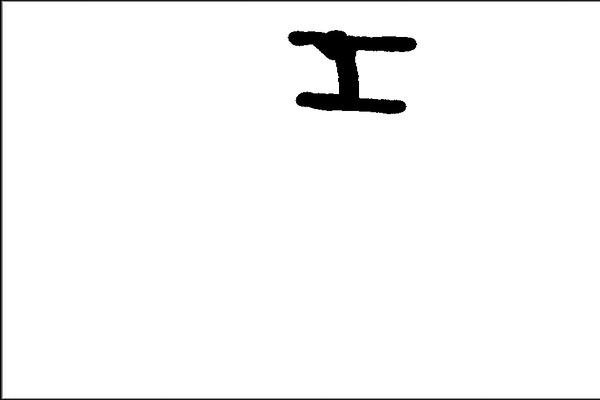i: (284, 20, 414, 122)
